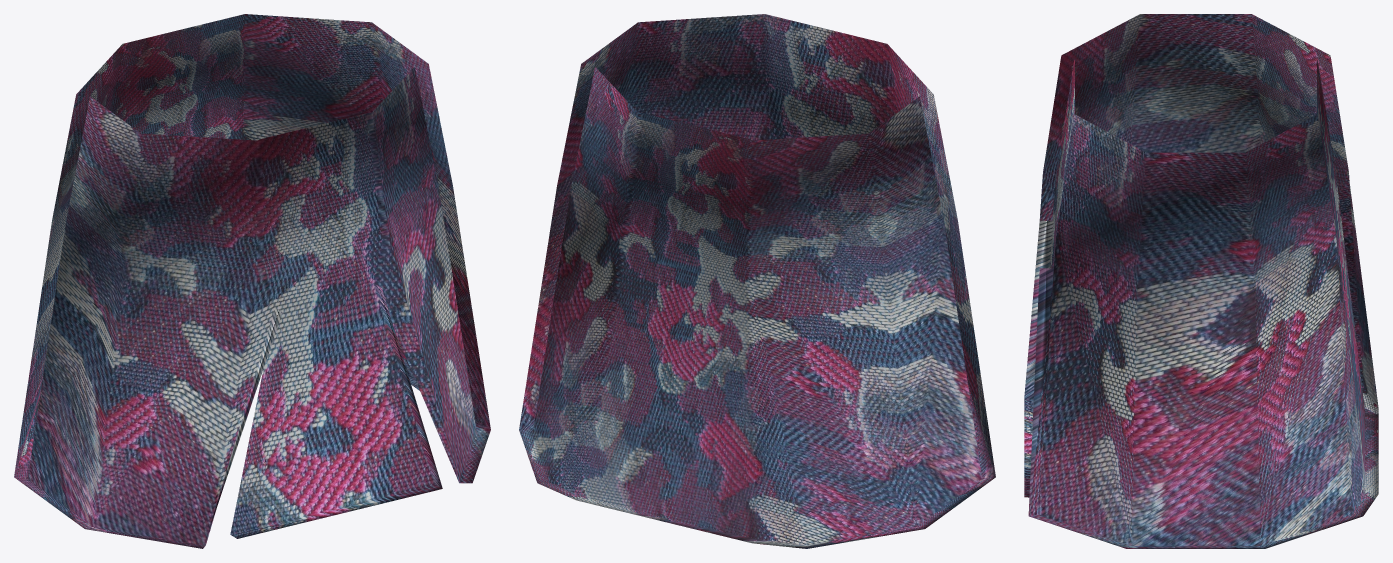
Rendered from Skirt_espessura2.gltf.
The picture shows the model from 3 angles, left to right: view 1: azimuth 30°, elevation 25°; view 2: azimuth 150°, elevation 25°; view 3: azimuth 270°, elevation 25°; orthographic projection.
Visible parts, largest first — view 1: Cylinder; view 2: Cylinder; view 3: Cylinder.
Boxes of the visible parts, x1,y1,x2,y2 form: Cylinder: (14, 14, 490, 548); Cylinder: (519, 14, 995, 548); Cylinder: (1024, 14, 1378, 548).
Bounding box in the file's own units: 0.4628 × 0.41 × 0.3568.
1 material, 1 textured.
